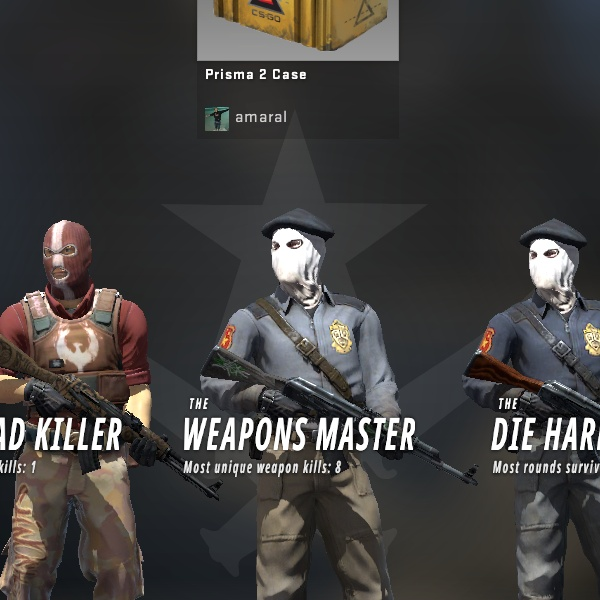t_body: (0, 198, 202, 600)
t_head: (16, 206, 119, 317)
